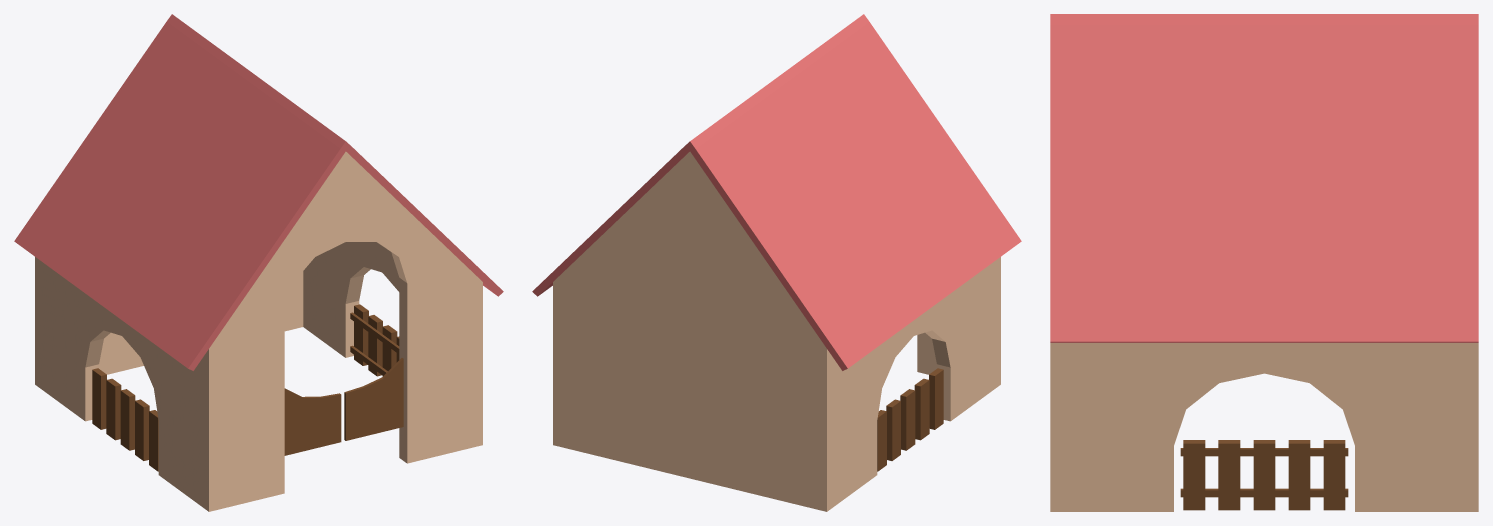
Rendered from House.FBX.
3 renders of one model, left to right at view 1: azimuth 30°, elevation 25°; view 2: azimuth 150°, elevation 25°; view 3: azimuth 270°, elevation 25°, orthographic. The views are drawn at different scales.
Parts seen in each view (by area): view 1: House; view 2: House; view 3: House.
Boxes of the visible parts, <box> form: House: <box>14,14,503,511</box>; House: <box>532,14,1021,511</box>; House: <box>1050,14,1478,511</box>.
Bounding box in the file's own units: 115 × 118 × 110.
